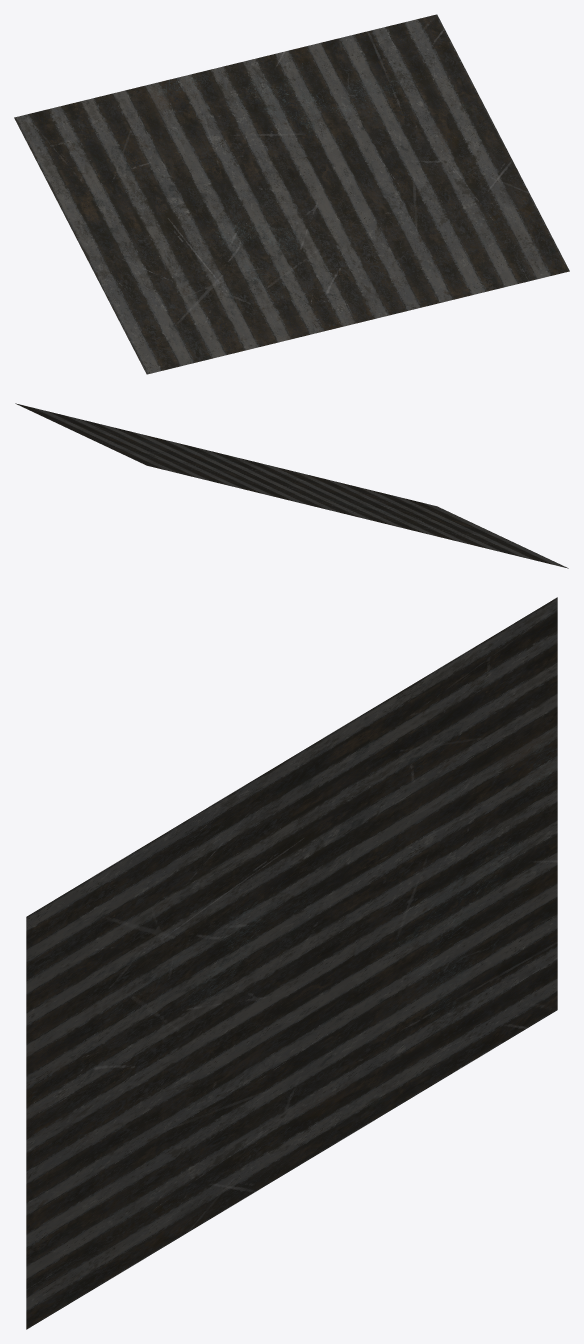
File: roof01.fbx
3 views of the same model, one above another, from view 1: azimuth 30°, elevation 25°; view 2: azimuth 150°, elevation 25°; view 3: azimuth 270°, elevation 25° (orthographic). The views are drawn at different scales.
Parts seen in each view (by area): view 1: roof01; view 2: roof01; view 3: roof01.
Boxes of the visible parts, x1=… form: roof01: x1=14, y1=14, x2=569, y2=374; roof01: x1=15, y1=403, x2=568, y2=568; roof01: x1=26, y1=597, x2=557, y2=1329.
Bounding box in the file's own units: 400 × 144 × 217.
